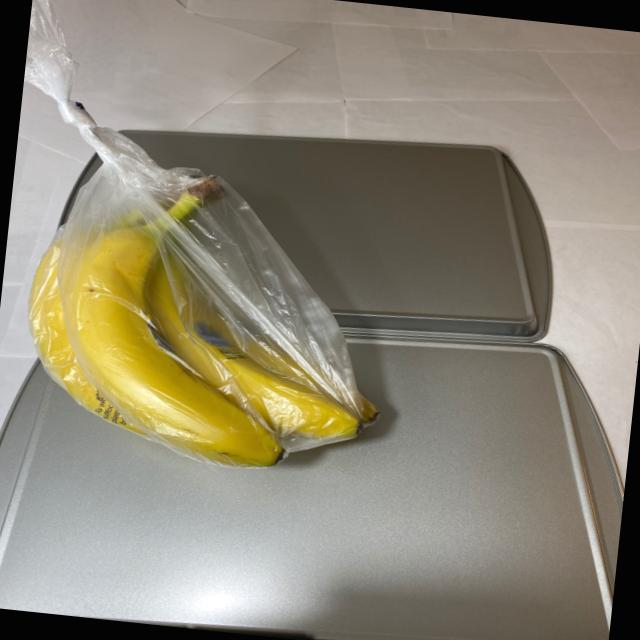banana: (15, 143, 414, 484)
